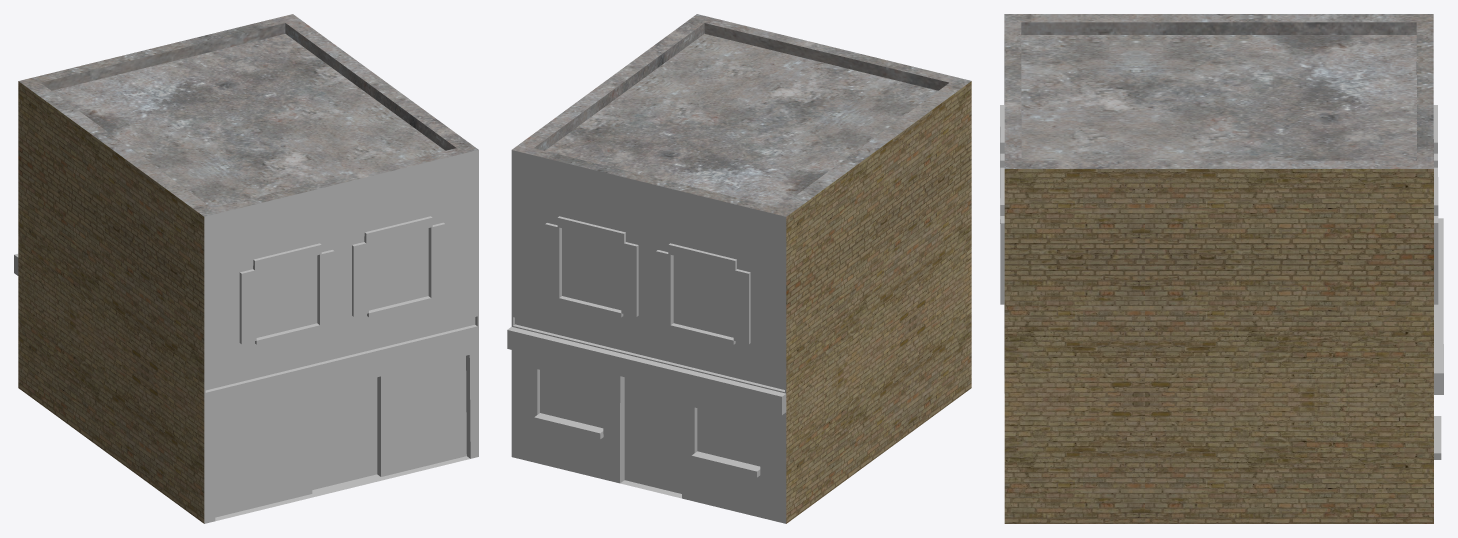
The picture shows the model from 3 angles, left to right: view 1: azimuth 30°, elevation 25°; view 2: azimuth 150°, elevation 25°; view 3: azimuth 270°, elevation 25°; orthographic projection. The views are drawn at different scales.
Visible parts, largest first — view 1: B28; view 2: B28; view 3: B28.
Part boxes in pixels (<box>): B28: <box>14,14,478,523</box>; B28: <box>507,14,971,523</box>; B28: <box>1000,14,1443,523</box>.
Bounding box in the file's own units: 1077 × 1150 × 1303.
